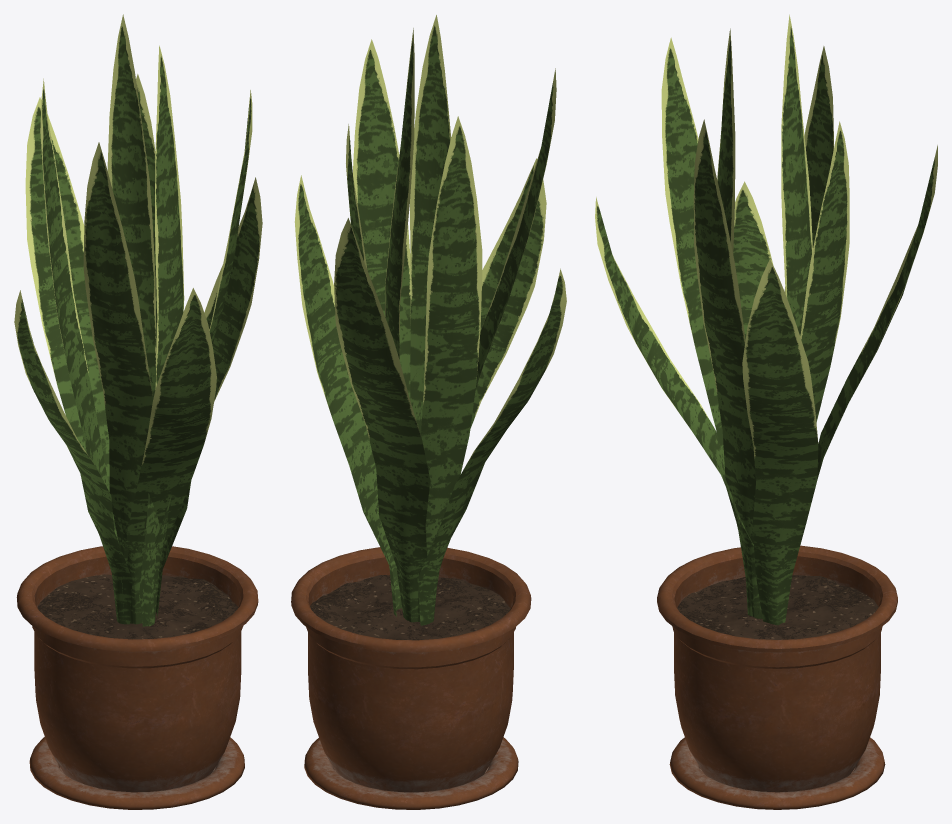
The model's file is TeschinYazik.obj.
3 views of the same model, side by side, from view 1: azimuth 30°, elevation 25°; view 2: azimuth 150°, elevation 25°; view 3: azimuth 270°, elevation 25° (orthographic).
Visible parts, largest first — view 1: Gorshok.001, List.005, List.001, List, List.008, List.009, Ground, List.006, List.002, List.003, Bludce.001, List.007 (+1 smaller); view 2: Gorshok.001, List.006, List, List.003, List.007, List.009, Ground, List.002, List.001, Bludce.001, List.008, List.005 (+1 smaller); view 3: Gorshok.001, List.003, List.007, List.005, Ground, List.004, List.008, List.001, Bludce.001, List, List.006, List.002 (+1 smaller).
Boxes of the visible parts, left/top/right/bottom form: Gorshok.001: left=16, top=546, right=258, bottom=792; List.005: left=83, top=142, right=153, bottom=624; List.001: left=124, top=288, right=216, bottom=563; List: left=25, top=97, right=109, bottom=483; List.008: left=107, top=14, right=156, bottom=398; List.009: left=139, top=45, right=184, bottom=626; Ground: left=37, top=574, right=238, bottom=639; List.006: left=40, top=78, right=124, bottom=623; List.002: left=14, top=290, right=132, bottom=624; List.003: left=156, top=177, right=262, bottom=616; Bludce.001: left=29, top=737, right=244, bottom=809; List.007: left=153, top=90, right=252, bottom=621; Gorshok.001: left=291, top=547, right=531, bottom=792; List.006: left=417, top=116, right=482, bottom=622; List: left=334, top=218, right=430, bottom=622; List.003: left=294, top=175, right=402, bottom=616; List.007: left=352, top=39, right=410, bottom=399; List.009: left=410, top=15, right=451, bottom=583; Ground: left=310, top=575, right=510, bottom=640; List.002: left=417, top=268, right=566, bottom=625; List.001: left=470, top=158, right=546, bottom=428; Bludce.001: left=304, top=737, right=518, bottom=809; List.008: left=385, top=28, right=414, bottom=359; List.005: left=475, top=68, right=556, bottom=389; Gorshok.001: left=657, top=545, right=897, bottom=792; List.003: left=742, top=259, right=818, bottom=625; List.007: left=693, top=119, right=762, bottom=618; List.005: left=661, top=37, right=724, bottom=458; Ground: left=677, top=575, right=878, bottom=639; List.004: left=800, top=121, right=849, bottom=422; List.008: left=781, top=14, right=812, bottom=335; List.001: left=595, top=197, right=753, bottom=545; Bludce.001: left=669, top=737, right=885, bottom=809; List: left=817, top=145, right=937, bottom=479; List.006: left=784, top=46, right=833, bottom=293; List.002: left=733, top=181, right=773, bottom=339.
Size of the model in its own units: 0.1283 by 0.3706 by 0.1534.
Materials: 3 (3 with a texture image).
